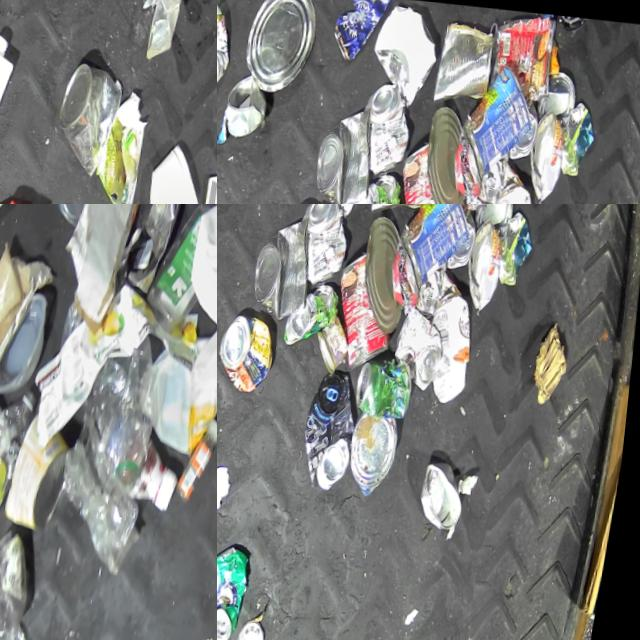can: (456, 56, 542, 178), (56, 48, 136, 175), (8, 403, 85, 532), (330, 246, 408, 369), (303, 369, 371, 489), (251, 210, 324, 320), (238, 0, 322, 95), (357, 211, 420, 330), (313, 100, 385, 204), (394, 204, 479, 288), (488, 9, 562, 97), (419, 101, 482, 204), (357, 79, 419, 175), (433, 17, 500, 105), (219, 310, 284, 393), (392, 136, 470, 204), (393, 302, 453, 389), (350, 410, 409, 496), (295, 204, 357, 285), (217, 542, 262, 640), (526, 104, 572, 199), (464, 214, 510, 309), (356, 352, 420, 417), (422, 458, 477, 532), (328, 0, 390, 64), (287, 278, 344, 347), (223, 70, 274, 136), (315, 311, 358, 371), (537, 65, 581, 118), (348, 168, 406, 204), (217, 0, 238, 98), (512, 97, 543, 158), (450, 207, 481, 268), (42, 204, 99, 226), (475, 204, 518, 228), (244, 616, 278, 640)
milk_jug: (38, 269, 183, 492), (141, 305, 217, 458), (183, 204, 217, 332)
plastic_bottle: (59, 428, 164, 571)
